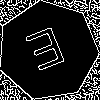E: (23, 26, 72, 81)
